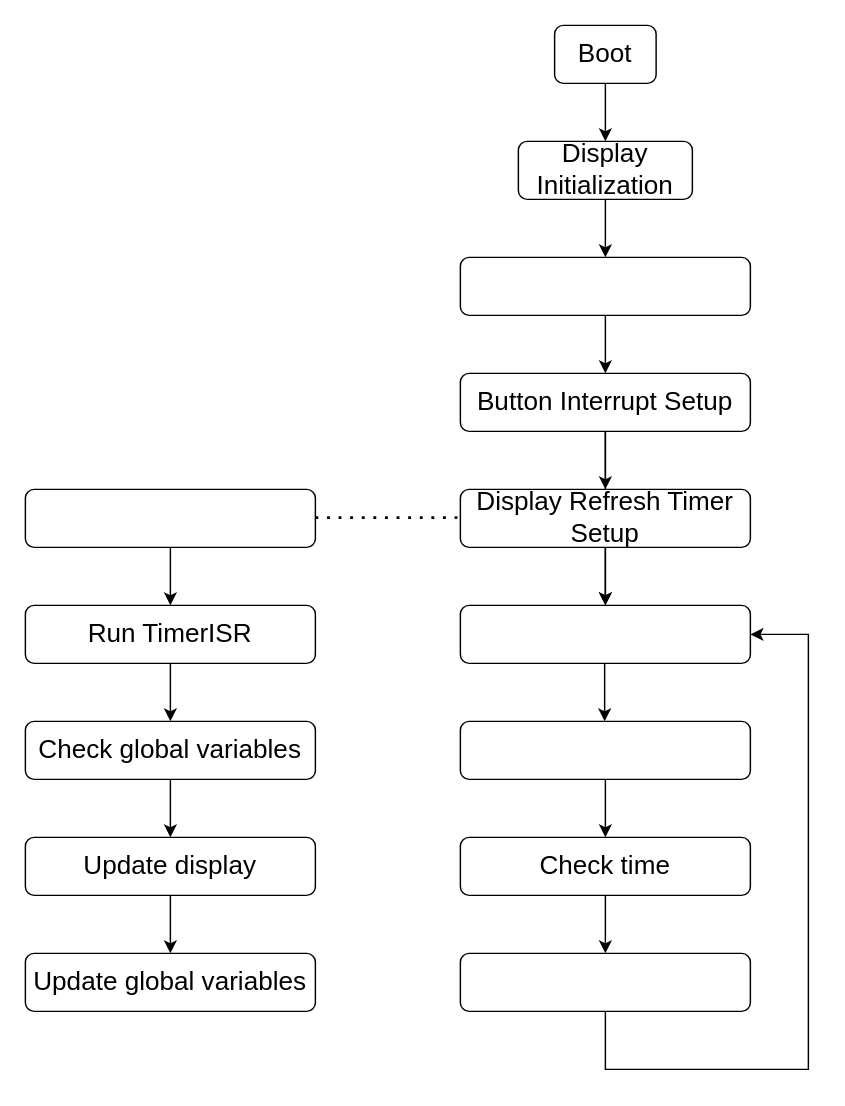
The diagram is 845 pixels wide and 1106 high, and some of its shapes have lost their labels. Here are the shapes that lost their labels. From the top down, the box of each, then its label:
(459, 256, 750, 315): Wait for buttons to be de-pressed
(24, 488, 315, 547): Timer Interrupt every 16ms (60 Hz)
(459, 604, 750, 663): Print Debug Information
(459, 720, 750, 779): Poll GPIO Expander Switches
(459, 952, 750, 1011): Set global variable
